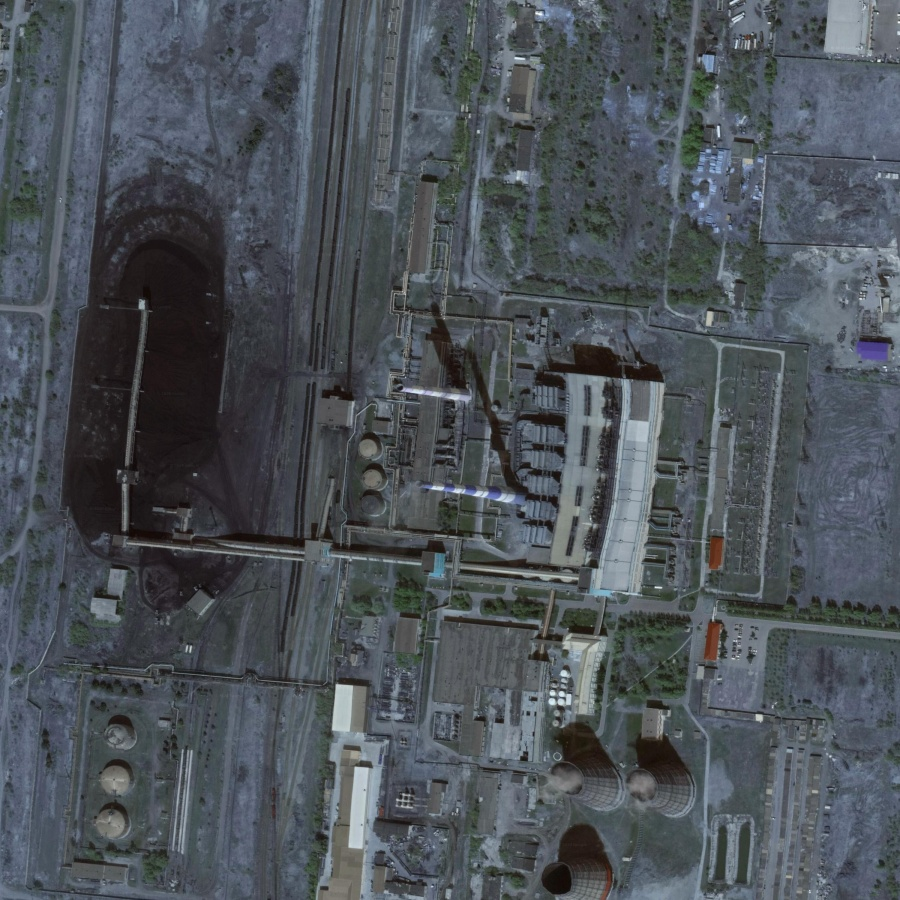PowerPlant: (53, 204, 371, 613), (377, 291, 566, 553), (55, 657, 203, 899)
